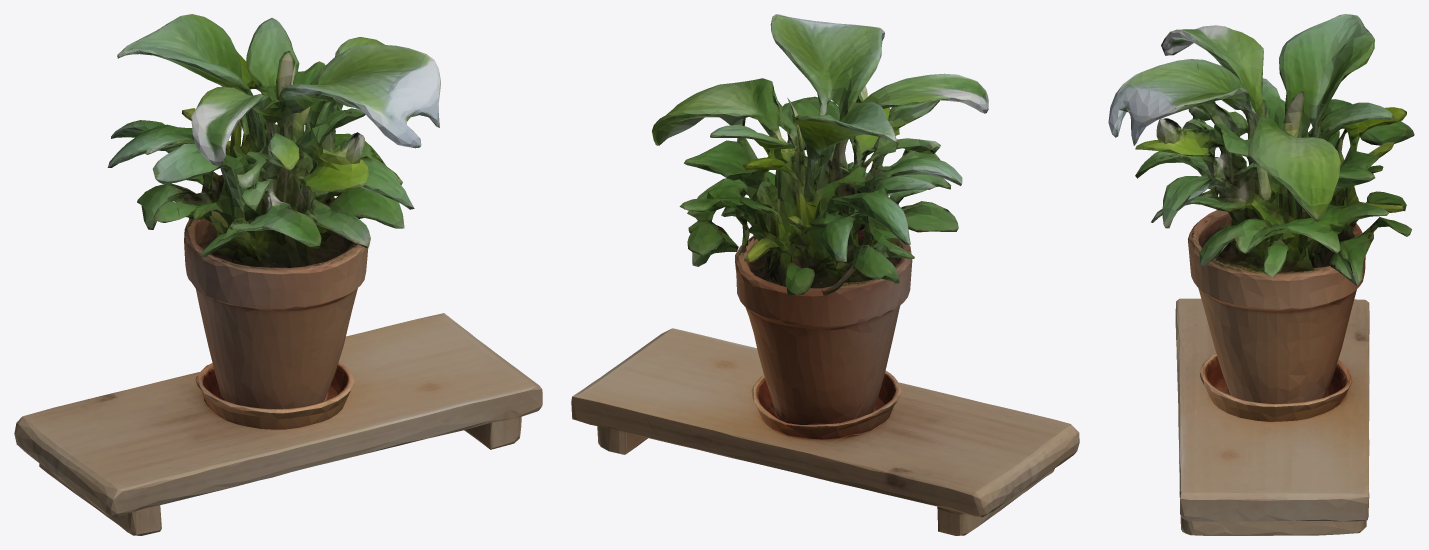
3 renders of one model, left to right at view 1: azimuth 30°, elevation 25°; view 2: azimuth 150°, elevation 25°; view 3: azimuth 270°, elevation 25°, orthographic. The views are drawn at different scales.
Parts seen in each view (by area): view 1: geometry_0; view 2: geometry_0; view 3: geometry_0.
Boxes of the visible parts, x1,y1,x2,y2 form: geometry_0: (14,14,542,535); geometry_0: (571,14,1079,535); geometry_0: (1108,14,1414,535).
Size of the model in its own units: 0.6577 by 0.5904 by 0.4203.
1 material, 1 textured.
